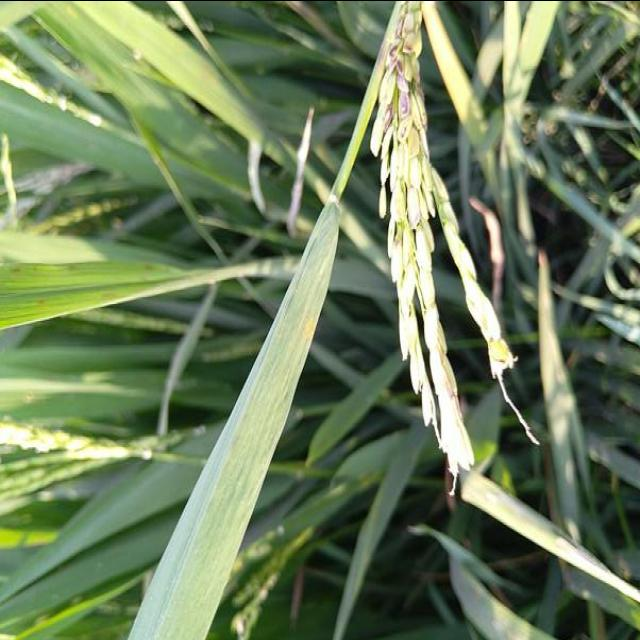Panicle Blight: (382, 41, 412, 116), (395, 6, 415, 37), (447, 389, 462, 425), (392, 238, 400, 282), (385, 102, 393, 130)
